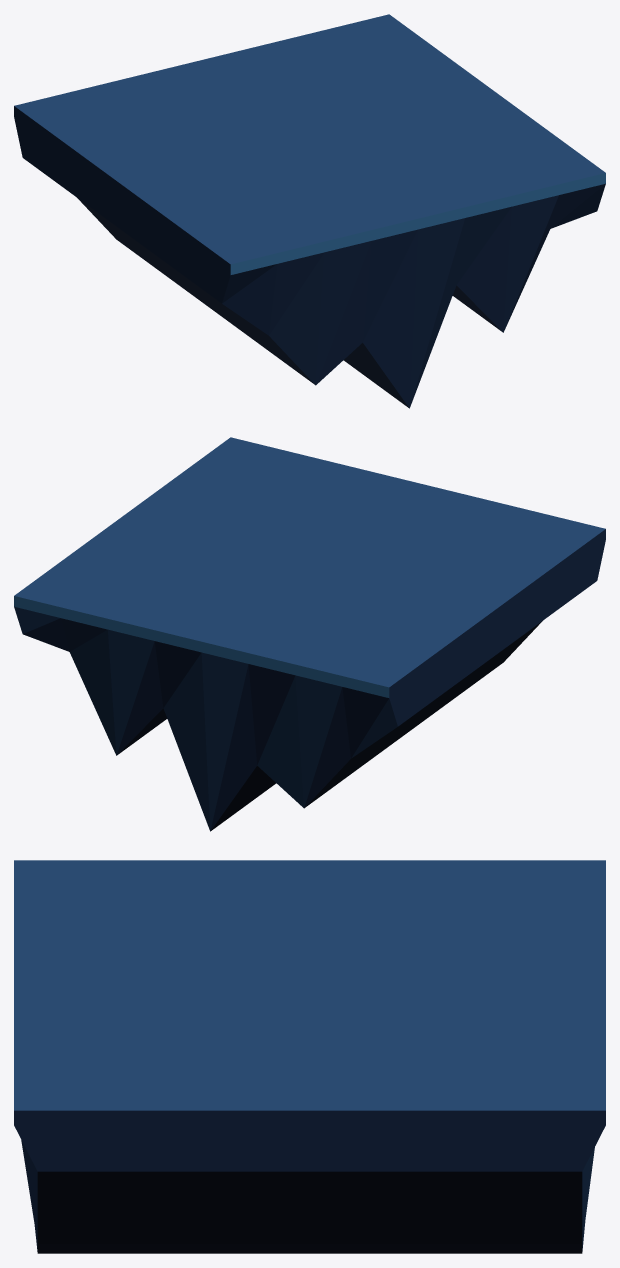
File: ground_normal.obj
3 views of the same model, one above another, from view 1: azimuth 30°, elevation 25°; view 2: azimuth 150°, elevation 25°; view 3: azimuth 270°, elevation 25° (orthographic). The views are drawn at different scales.
Visible parts, largest first — view 1: ground_normal_M0, ground_normal_M5, ground_normal_M4, ground_normal_M1; view 2: ground_normal_M0, ground_normal_M3, ground_normal_M2, ground_normal_M5, ground_normal_M4, ground_normal_M1; view 3: ground_normal_M0, ground_normal_M4, ground_normal_M5, ground_normal_M3.
Boxes of the visible parts, x1=… form: ground_normal_M0: x1=14, y1=14, x2=605, y2=264; ground_normal_M5: x1=14, y1=106, x2=605, y2=408; ground_normal_M4: x1=77, y1=198, x2=501, y2=408; ground_normal_M1: x1=230, y1=173, x2=605, y2=274; ground_normal_M0: x1=14, y1=437, x2=605, y2=687; ground_normal_M3: x1=14, y1=606, x2=397, y2=830; ground_normal_M2: x1=23, y1=618, x2=388, y2=830; ground_normal_M5: x1=389, y1=529, x2=605, y2=726; ground_normal_M4: x1=118, y1=621, x2=542, y2=831; ground_normal_M1: x1=14, y1=596, x2=389, y2=697; ground_normal_M0: x1=14, y1=860, x2=605, y2=1110; ground_normal_M4: x1=37, y1=1171, x2=582, y2=1253; ground_normal_M5: x1=14, y1=1110, x2=605, y2=1251; ground_normal_M3: x1=582, y1=1147, x2=594, y2=1251.
Bounding box in the file's own units: 2 × 1 × 2.
